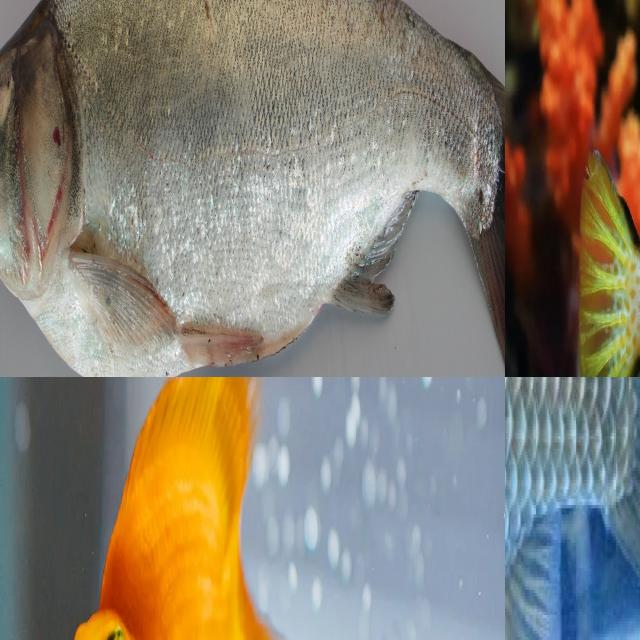fish: (0, 0, 505, 377), (505, 0, 640, 377), (135, 397, 325, 640), (505, 377, 640, 640)
